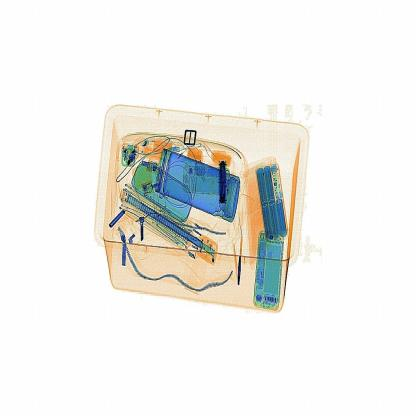scissors: (214, 151, 239, 214)
